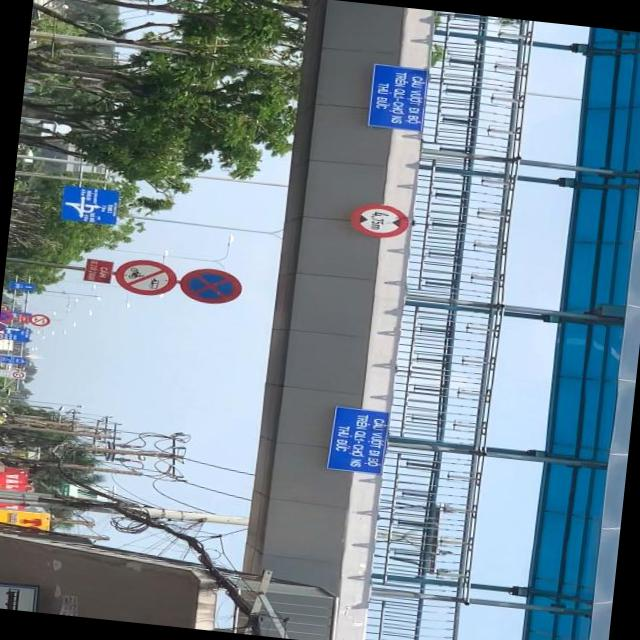P-104: (113, 256, 176, 297)
P-117: (346, 202, 408, 240)
P-130: (178, 267, 241, 305)
